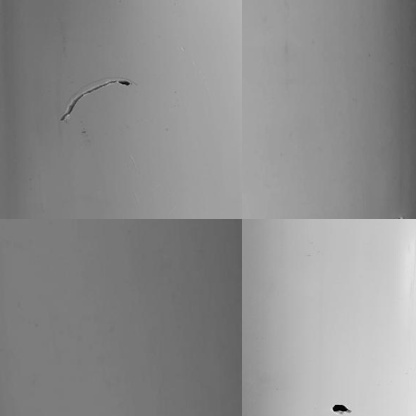fengxi: (55, 76, 143, 122)
kongdong: (328, 397, 352, 413)
